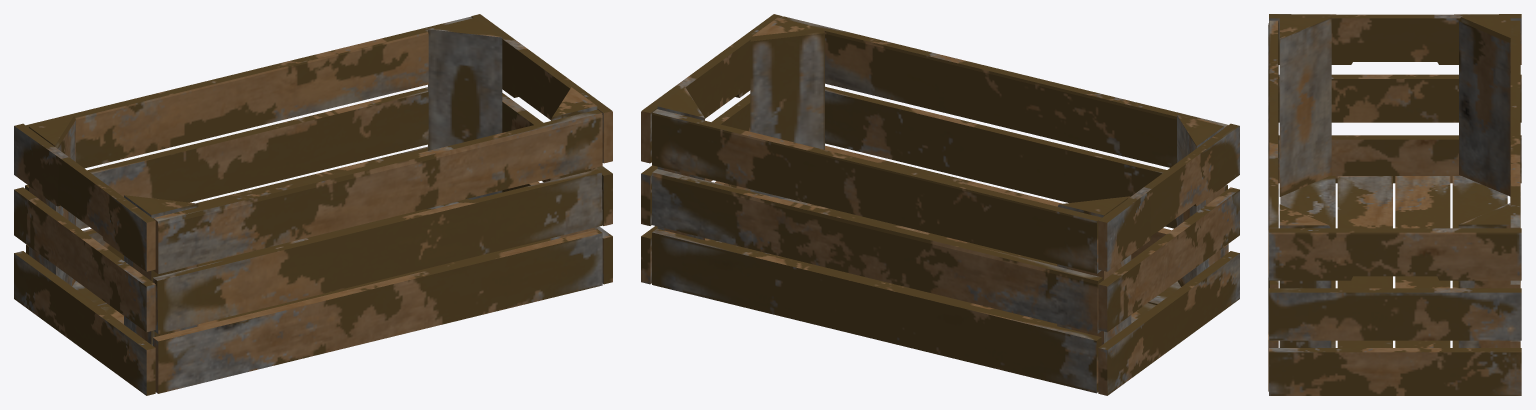
The picture shows the model from 3 angles, left to right: view 1: azimuth 30°, elevation 25°; view 2: azimuth 150°, elevation 25°; view 3: azimuth 270°, elevation 25°; orthographic projection. The views are drawn at different scales.
Parts seen in each view (by area): view 1: Cube.002; view 2: Cube.002; view 3: Cube.002.
Boxes of the visible parts, x1=… form: Cube.002: x1=14, y1=14, x2=612, y2=395; Cube.002: x1=641, y1=14, x2=1239, y2=395; Cube.002: x1=1268, y1=14, x2=1521, y2=395.
Bounding box in the file's own units: 121 × 43.57 × 59.89.
Materials: 1 (1 with a texture image).
